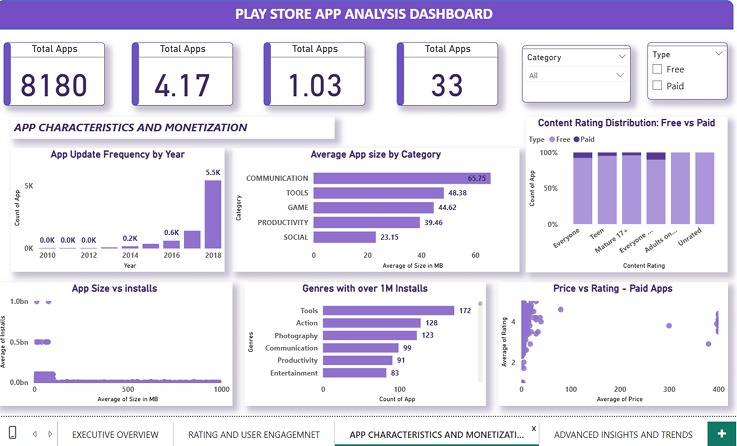

Layout of this report page (visuals, bound fields, positions):
{"tool":"powerbi","page":{"name":"APP CHARACTERISTICS AND MONETIZATION","canvas":[1280,720],"ordinal":2},"visuals":[{"type":"shape","box":[9.8,9.8,1259.5,50.1],"z":0},{"type":"textbox","box":[413.3,11,495.2,48.9],"z":1000},{"type":"card","title":"Total Apps","fields":{"Values":["googleplaystore (3).Total Apps"]},"box":[22,81.9,172.4,107.6],"z":2000},{"type":"shape","box":[22,81.9,12.2,107.6],"z":3000},{"type":"card","title":"Total Apps","fields":{"Values":["googleplaystore (3).Total Categories"]},"box":[694.6,81.9,172.4,107.6],"z":4000},{"type":"card","title":"Total Apps","fields":{"Values":["Avg(googleplaystore (3).Price)"]},"box":[465.9,81.9,173.6,107.6],"z":5000},{"type":"card","title":"Total Apps","fields":{"Values":["googleplaystore (3).Average Rating"]},"box":[240.9,81.9,172.4,107.6],"z":6000},{"type":"shape","box":[465.9,81.9,12.2,107.6],"z":7000},{"type":"shape","box":[240.9,81.9,12.2,107.6],"z":8000},{"type":"shape","box":[694.6,81.9,12.2,107.6],"z":9000},{"type":"textbox","box":[34.2,209.1,552.7,37.9],"z":10000},{"type":"clusteredBarChart","title":"Average App size by Category","fields":{"Category":["googleplaystore (3).Category"],"Y":["Avg(googleplaystore (3).Size_MB)"]},"box":[413.3,262.9,490.4,211.6],"z":11000},{"type":"slicer","fields":{"Values":["googleplaystore (3).Category"]},"box":[908.6,86.8,185.9,97.8],"z":12000},{"type":"slicer","fields":{"Values":["googleplaystore (3).Type"]},"box":[1122.6,81.9,137,97.8],"z":13000},{"type":"scatterChart","title":"App Size vs installs","fields":{"X":["Avg(googleplaystore (3).Size in MB)"],"Y":["Avg(googleplaystore (3).Installs)"],"Category":["googleplaystore (3).App"]},"box":[9.6,491.3,403.4,211.3],"z":14000},{"type":"scatterChart","title":"Price vs Rating - Paid Apps","fields":{"X":["Avg(googleplaystore (3).Price)"],"Y":["Avg(googleplaystore (3).Rating)"],"Category":["googleplaystore (3).App"]},"box":[867.2,491.3,392.5,211.3],"z":15000},{"type":"hundredPercentStackedColumnChart","title":"Content Rating Distribution: Free vs Paid","fields":{"Category":["googleplaystore (3).Content Rating"],"Series":["googleplaystore (3).Type"],"Y":["CountNonNull(googleplaystore (3).App)"]},"box":[914.7,209.1,344.8,265.4],"z":16000},{"type":"clusteredBarChart","title":"Genres with over 1M Installs","fields":{"Category":["googleplaystore (3).Genres"],"Y":["CountNonNull(googleplaystore (3).App)"]},"box":[433.6,491.3,411.7,211.3],"z":17000},{"type":"clusteredColumnChart","title":"App Update Frequency by Year","fields":{"Category":["googleplaystore (3).Last Updated.Variation.Date Hierarchy.Year"],"Y":["CountNonNull(googleplaystore (3).App)"]},"box":[34.2,262.9,364.4,211.6],"z":18000}]}

Visuals, with their boxes on the page's 1280x720 design canvas (x1, y1, x2, y2). These are canvas units, not pixel positions in the 737x446 screenshot, which may show the page scaled, cropped or inside an application window:
shape: rect(10, 10, 1269, 60)
textbox: rect(413, 11, 908, 60)
"Total Apps" card: rect(22, 82, 194, 190)
shape: rect(22, 82, 34, 190)
"Total Apps" card: rect(695, 82, 867, 190)
"Total Apps" card: rect(466, 82, 640, 190)
"Total Apps" card: rect(241, 82, 413, 190)
shape: rect(466, 82, 478, 190)
shape: rect(241, 82, 253, 190)
shape: rect(695, 82, 707, 190)
textbox: rect(34, 209, 587, 247)
"Average App size by Category" clusteredBarChart: rect(413, 263, 904, 474)
slicer - googleplaystore (3).Category: rect(909, 87, 1094, 185)
slicer - googleplaystore (3).Type: rect(1123, 82, 1260, 180)
"App Size vs installs" scatterChart: rect(10, 491, 413, 703)
"Price vs Rating - Paid Apps" scatterChart: rect(867, 491, 1260, 703)
"Content Rating Distribution: Free vs Paid" hundredPercentStackedColumnChart: rect(915, 209, 1260, 474)
"Genres with over 1M Installs" clusteredBarChart: rect(434, 491, 845, 703)
"App Update Frequency by Year" clusteredColumnChart: rect(34, 263, 399, 474)
